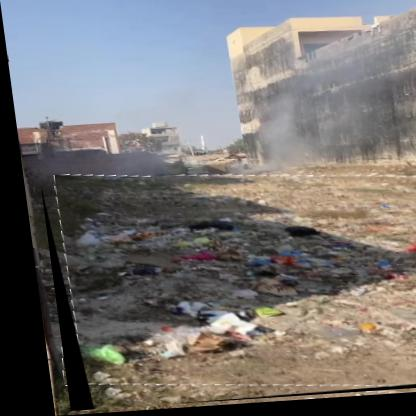Garbage: (36, 164, 416, 414)
